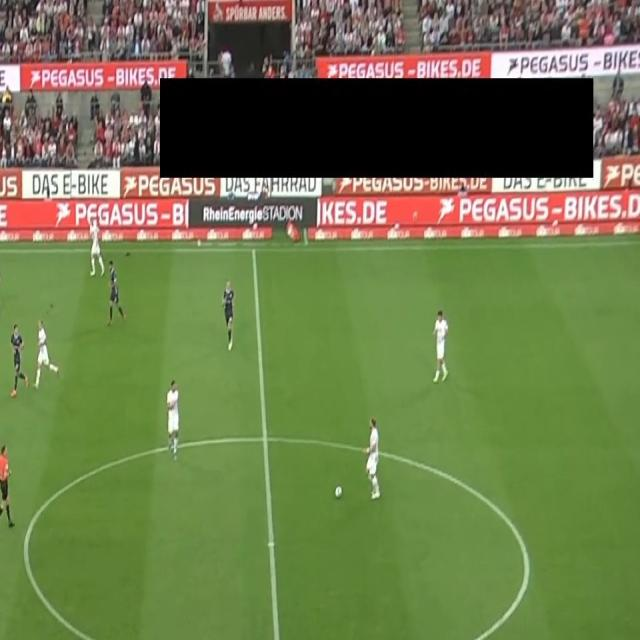ball: (334, 485, 342, 500)
